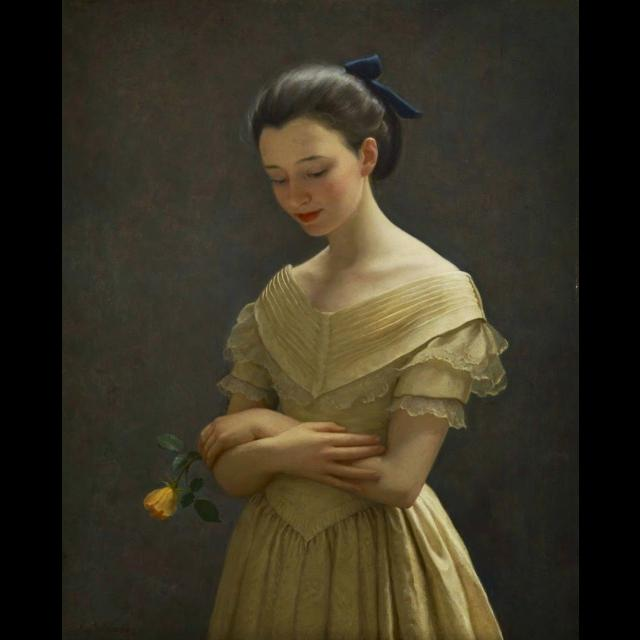Flower: (142, 488, 174, 522)
